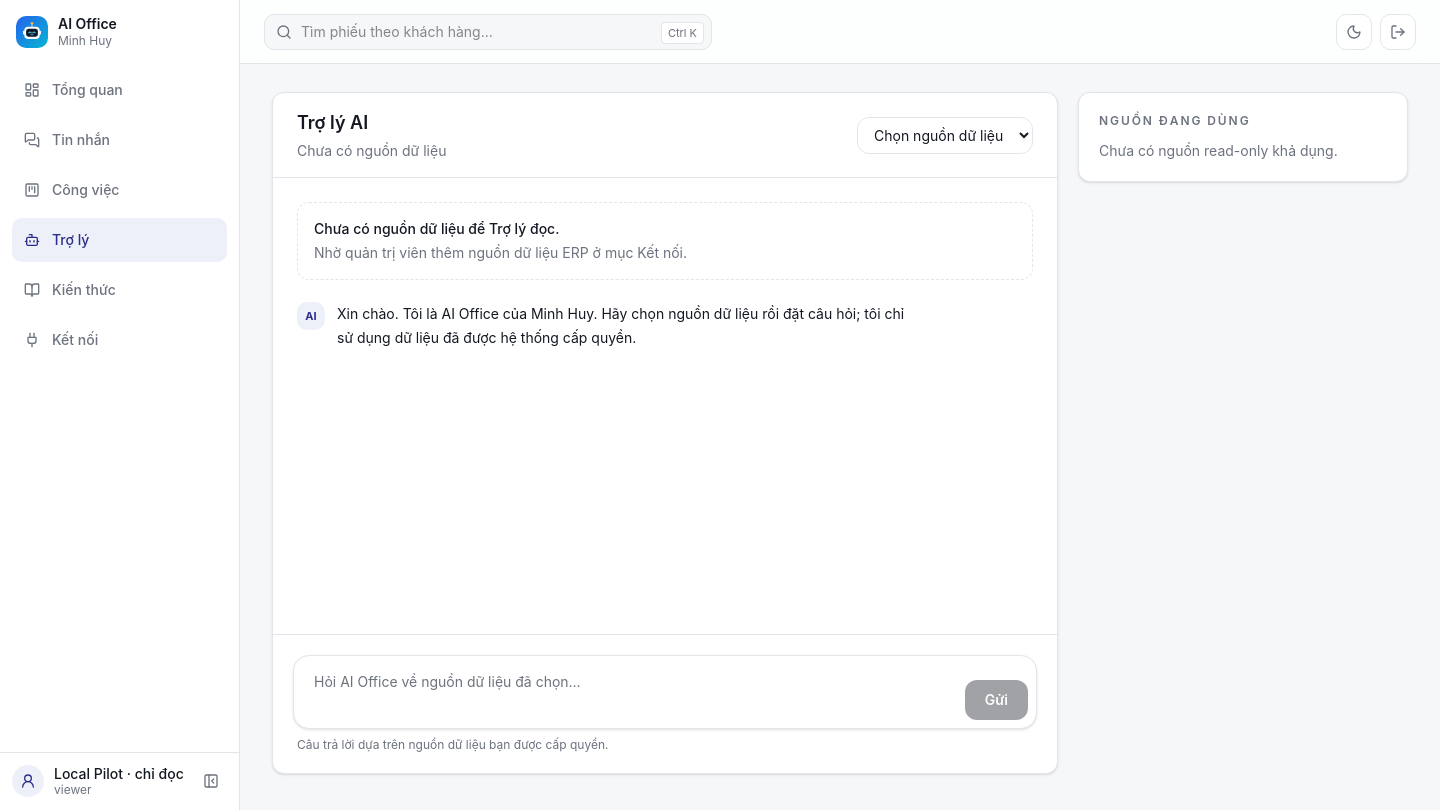
Test: logout removes all private archive state
Click the button "Công việc". click: (120, 190)
box: [12, 168, 227, 212]
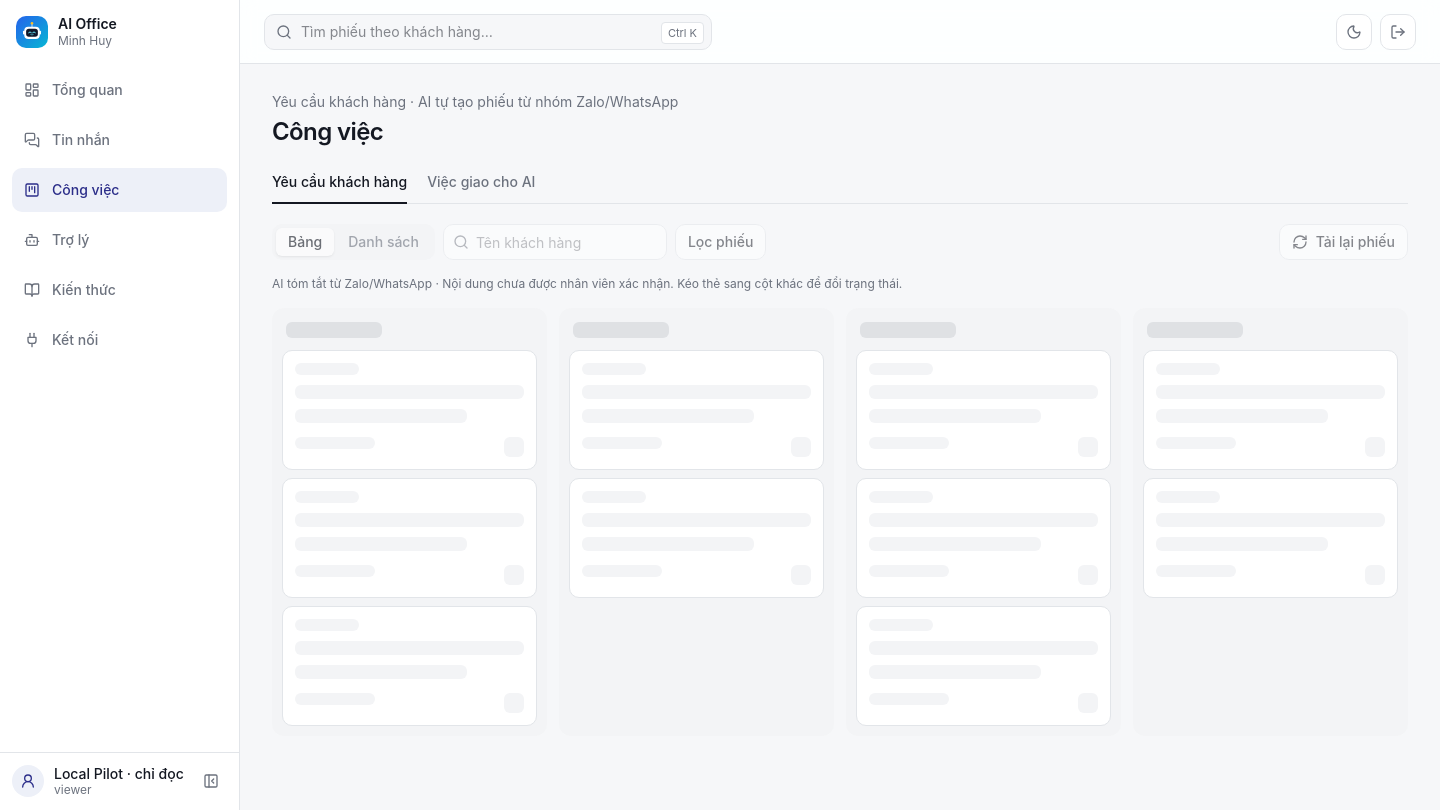
Click the button "Việc giao cho AI". click: (481, 186)
box: [427, 168, 535, 204]
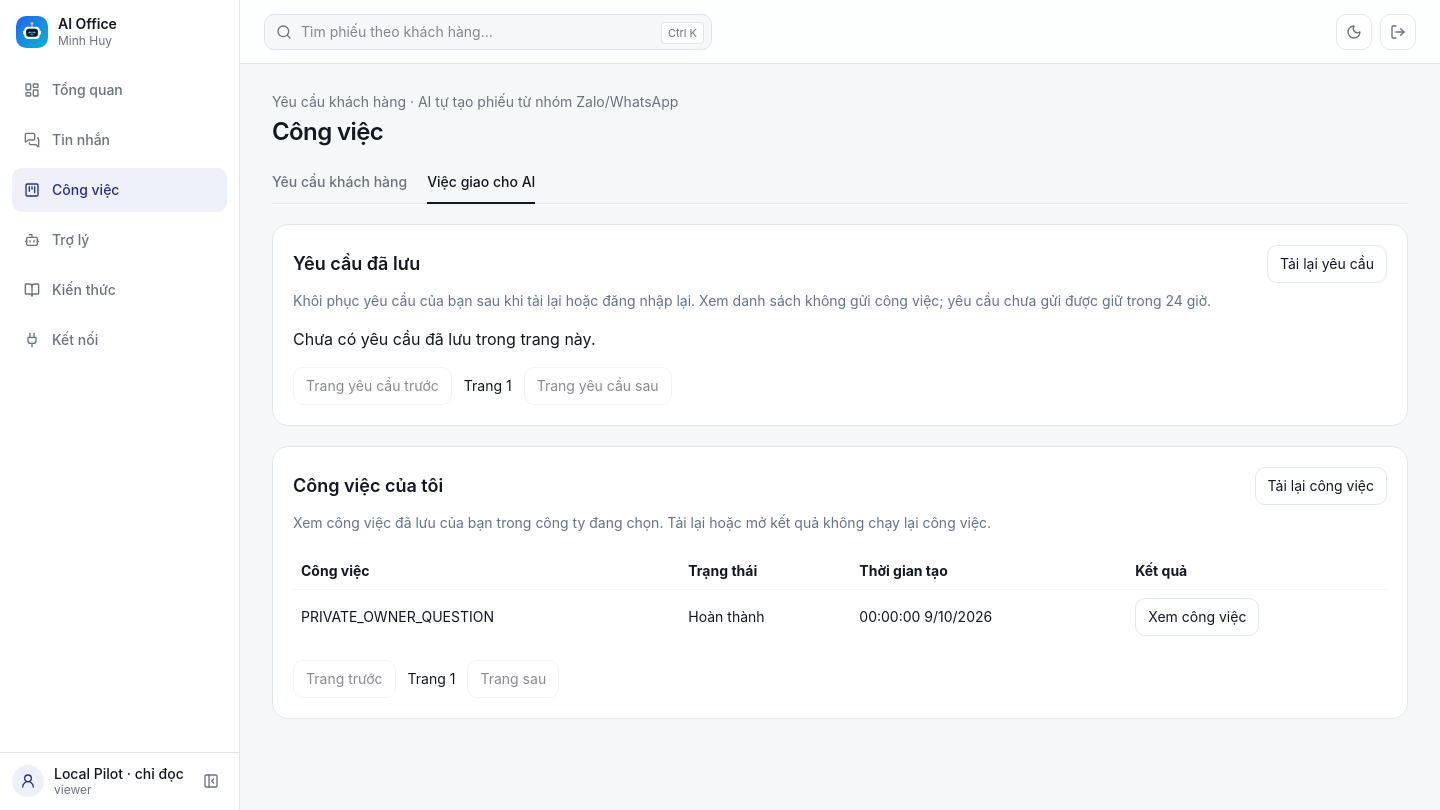
Expected: the text "PRIVATE_OWNER_QUESTION" is shown, [293, 590, 680, 644]
Click the button named "Đăng xuất". click: (1398, 32)
box: [1380, 14, 1416, 50]
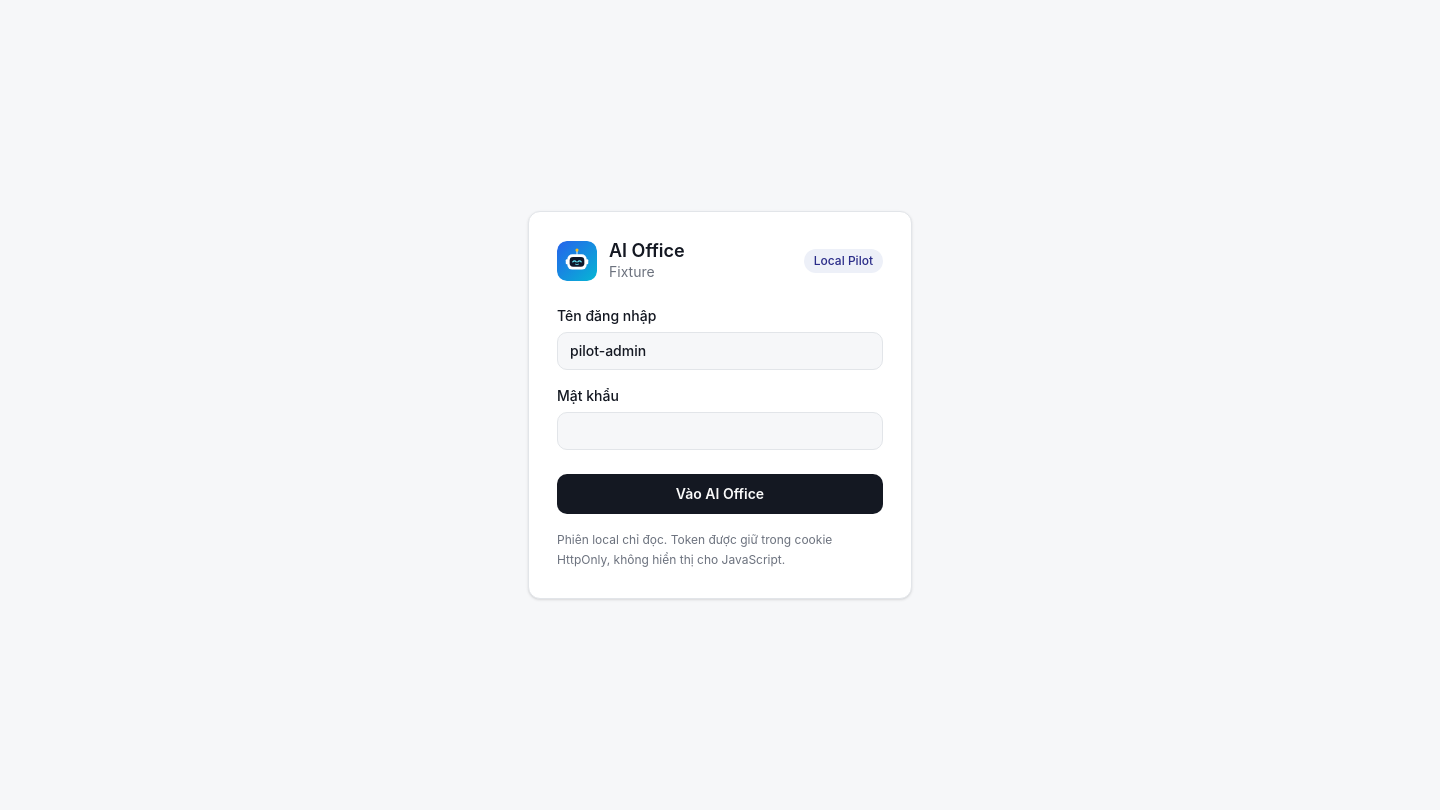
Expected: the text "Local Pilot" is shown, [804, 249, 883, 273]
Expected: the text "PRIVATE_OWNER_QUESTION" is gone
